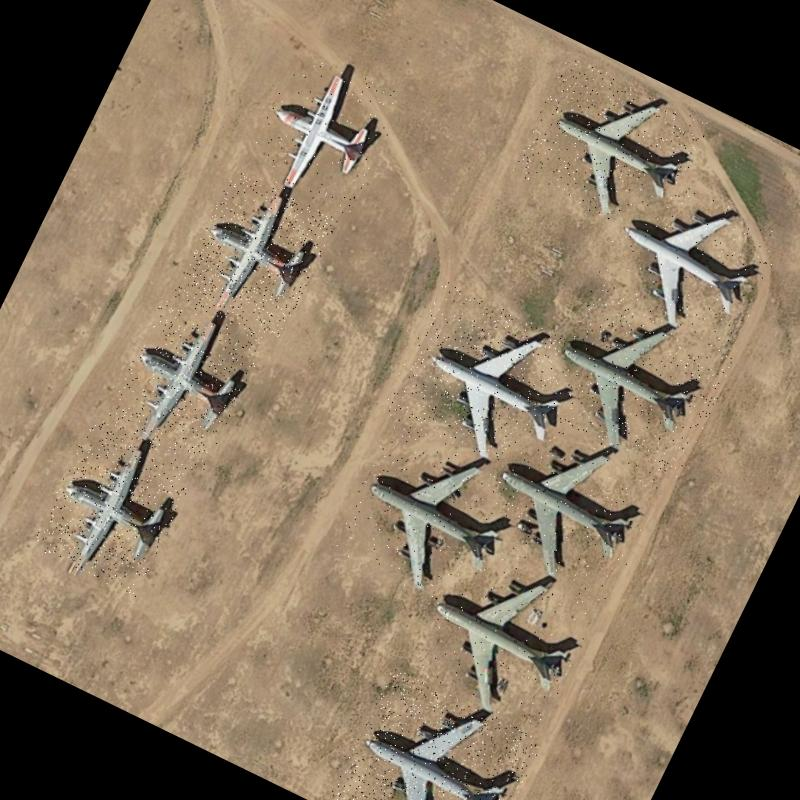A14: (380, 280, 602, 487), (404, 533, 604, 734), (533, 288, 737, 482), (330, 412, 526, 612), (586, 166, 788, 360), (465, 411, 667, 603), (510, 54, 711, 242), (324, 666, 543, 800)
A2: (100, 292, 266, 474), (172, 168, 338, 346), (30, 422, 196, 598), (241, 45, 406, 219)
